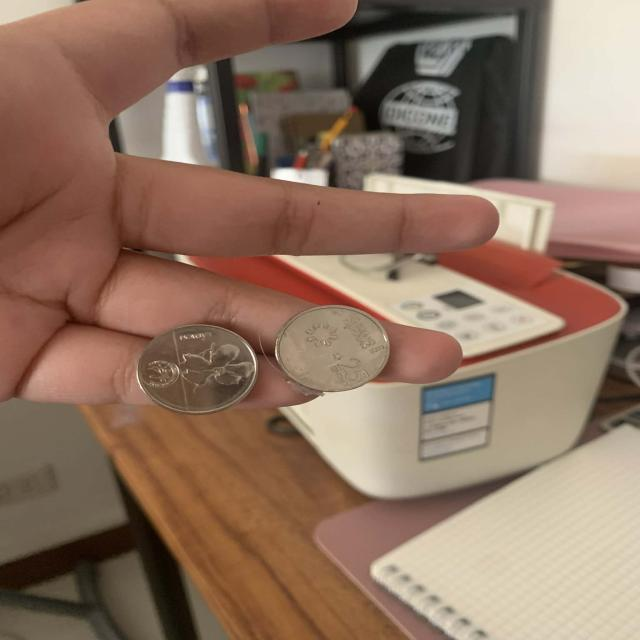25 cents: (133, 318, 264, 419), (271, 299, 400, 397)
